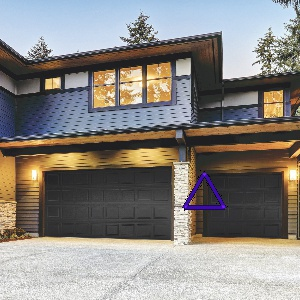triangle: (179, 169, 231, 214)
